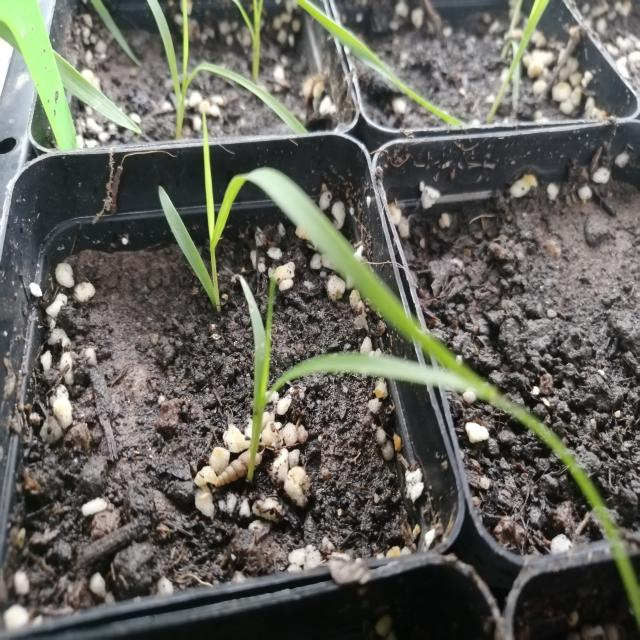crabgrass: (150, 105, 412, 328), (218, 273, 474, 437)
